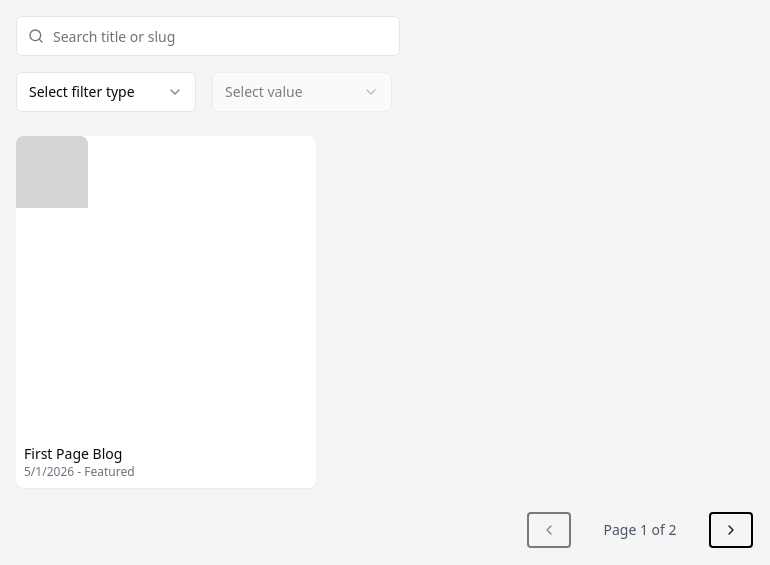
Test: ReadBlogList pagination › shows a search-specific no-results state
This screenshot has width=770, height=565.
expect the heading "First Page Blog" is shown: met, box [24, 444, 122, 463]
Type "missing" into the search field named "Search blog title or slug" at (208, 36), box [16, 16, 400, 56]
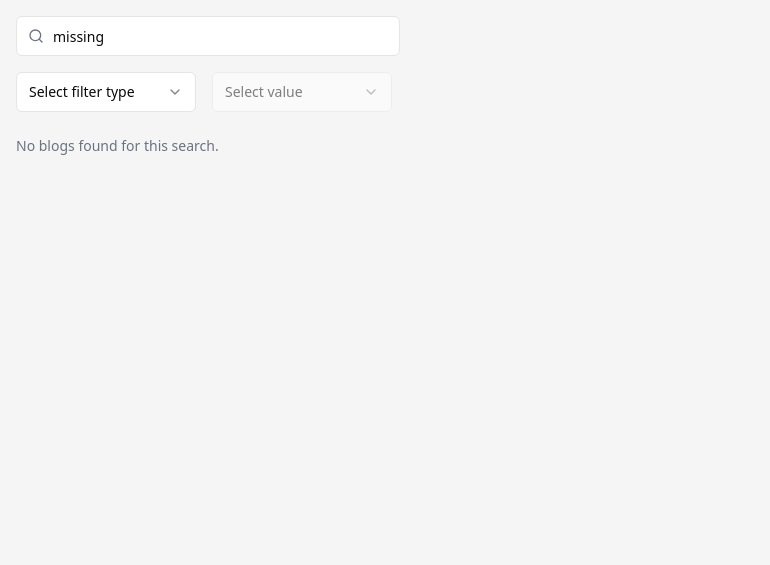
expect the text "No blogs found for this search." is shown: met, box [16, 136, 219, 155]
expect the text "Page 1 of 2" is gone: met
